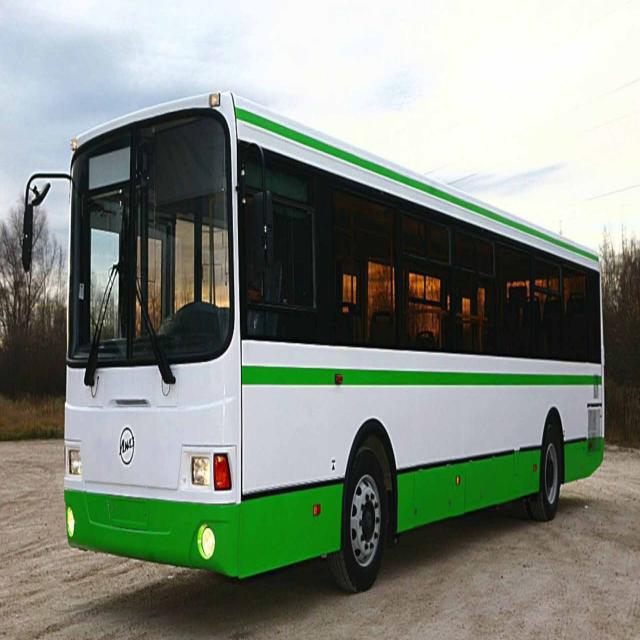bus: (21, 81, 617, 600)
